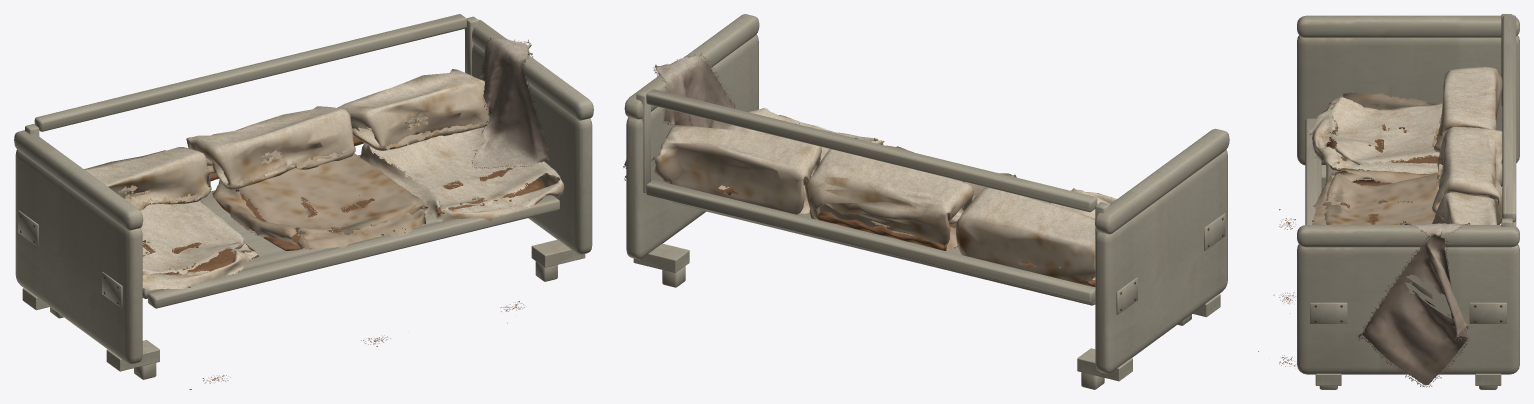
The model's file is sofa_aged.glb.
The picture shows the model from 3 angles, left to right: view 1: azimuth 30°, elevation 25°; view 2: azimuth 150°, elevation 25°; view 3: azimuth 270°, elevation 25°; orthographic projection. The views are drawn at different scales.
Parts seen in each view (by area): view 1: Frame, SeatCushion_C, SeatCushion_R, BackCushion_C, BackCushion_R, SeatCushion_L, Throw, BackCushion_L, Feet; view 2: Frame, BackCushion_C, BackCushion_R, BackCushion_L, Throw, SeatCushion_R, Feet, SeatCushion_C; view 3: Frame, SeatCushion_L, Throw, SeatCushion_C, BackCushion_C, BackCushion_L, BackCushion_R, Throw_Fringe.
Boxes of the visible parts, x1,y1,x2,y2 form: Frame: (14, 14, 593, 371); SeatCushion_C: (212, 153, 427, 250); SeatCushion_R: (360, 126, 564, 221); BackCushion_C: (186, 106, 355, 189); BackCushion_R: (337, 69, 489, 150); SeatCushion_L: (140, 200, 258, 290); Throw: (473, 39, 549, 166); BackCushion_L: (84, 147, 211, 250); Feet: (50, 261, 557, 379); Frame: (624, 14, 1229, 381); BackCushion_C: (804, 149, 973, 250); BackCushion_R: (650, 125, 821, 214); BackCushion_L: (956, 187, 1095, 286); Throw: (624, 55, 746, 178); SeatCushion_R: (672, 107, 884, 213); Feet: (662, 266, 1191, 389); SeatCushion_C: (809, 145, 1016, 251); Frame: (1297, 14, 1519, 385); SeatCushion_L: (1310, 92, 1442, 174); Throw: (1359, 223, 1468, 385); SeatCushion_C: (1312, 170, 1437, 224); BackCushion_C: (1432, 126, 1502, 224); BackCushion_L: (1432, 67, 1502, 152); BackCushion_R: (1432, 192, 1496, 224); Throw_Fringe: (1357, 221, 1469, 387).
Bounding box in the file's own units: 2.35 × 0.8494 × 1.12.
1 material, 1 textured.
